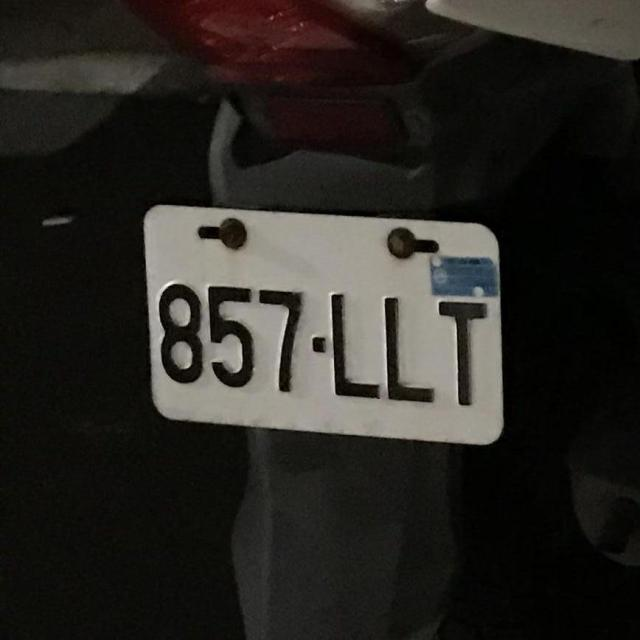W: (128, 186, 521, 459)
